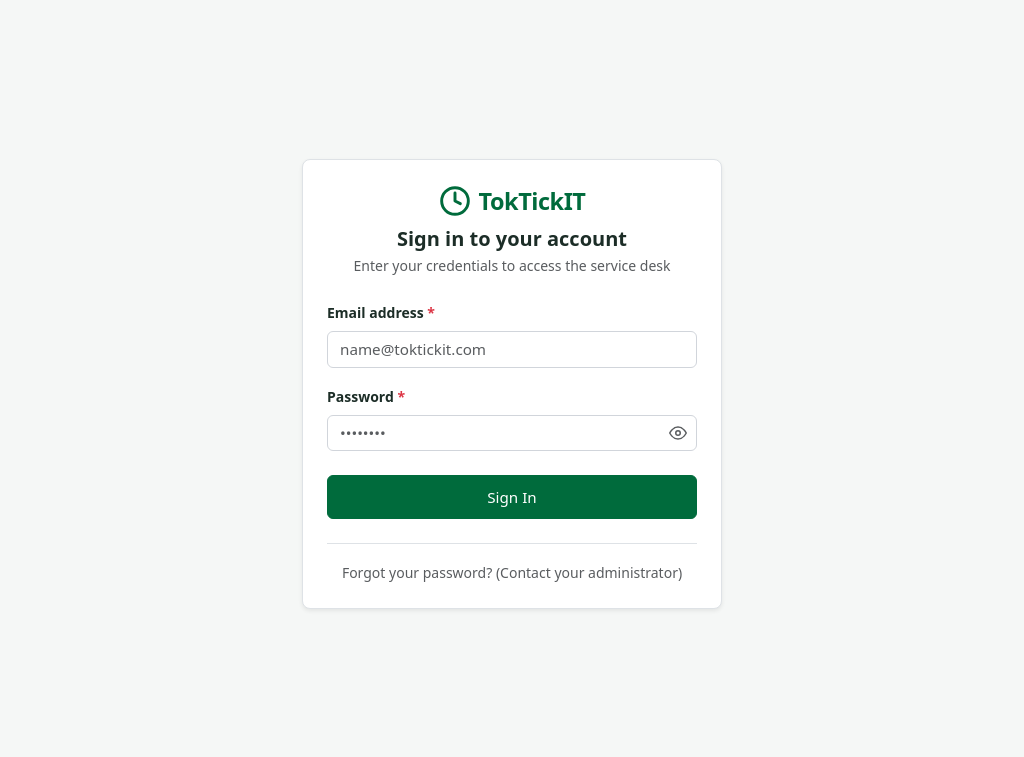
it: Protected Route Guard and Intended Destination UI Tests › preserves intended ticket detail destination and forwards user upon successful login
Expected: the heading "Sign in to your account" is shown, [397,225,627,252]
Type "jennifer.anderson@kmutt.ac.th" into the field labelled "Email address *" at (512, 349), box [327,331,697,368]
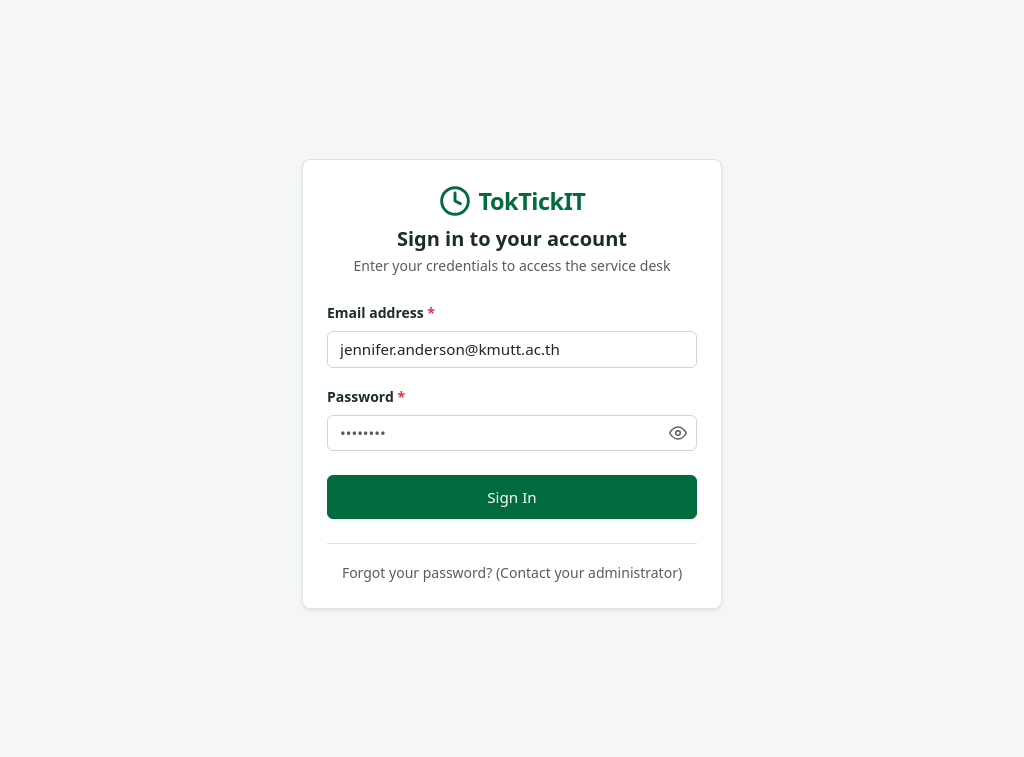
Type "Password123!" into the password field labelled "Password *" at (512, 433), box [327,415,697,451]
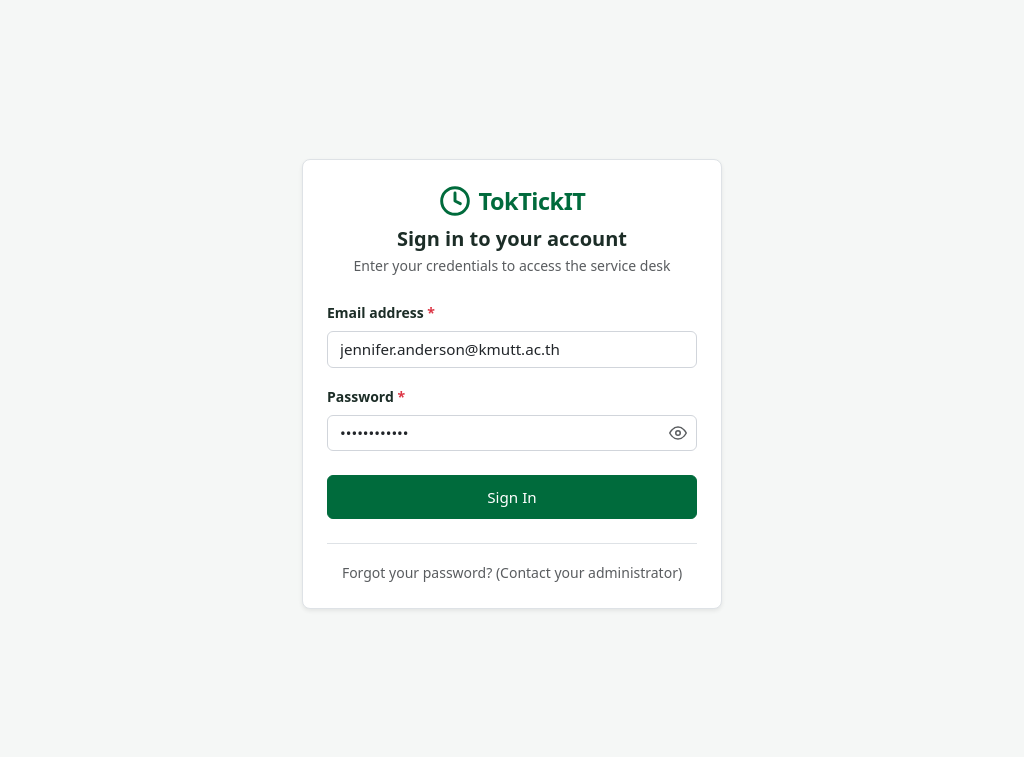
Click the button "Sign In" at (512, 497), box [327,475,697,519]
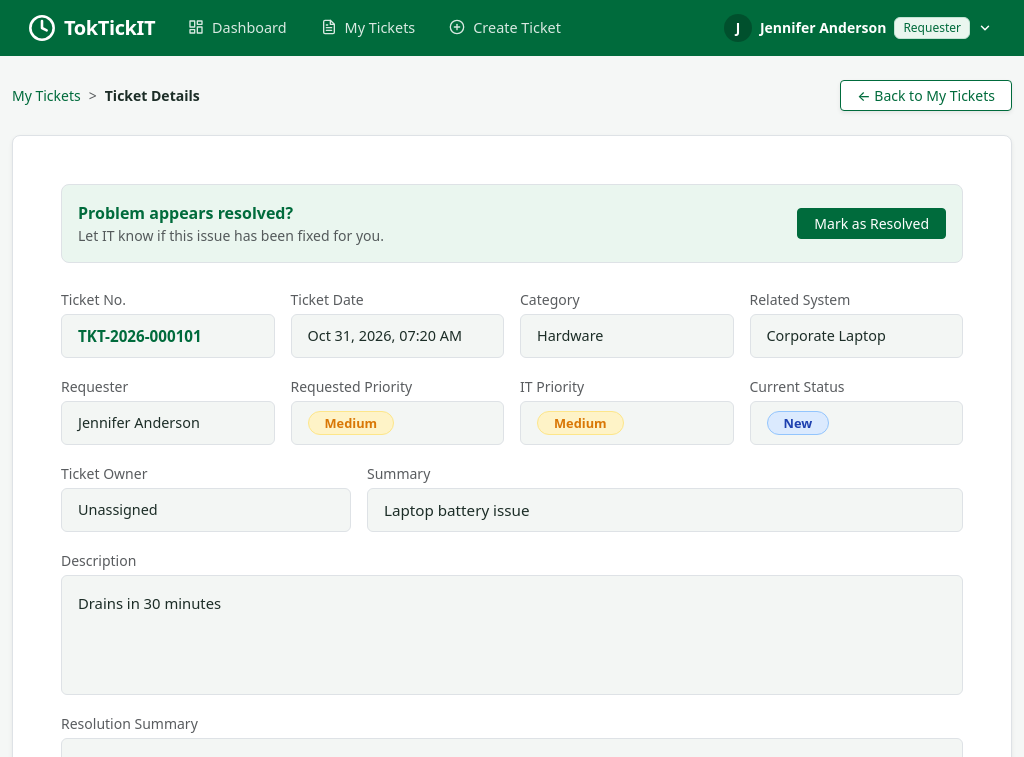
Expected: the text "TKT-2026-000101" is shown, [61,314,274,358]
